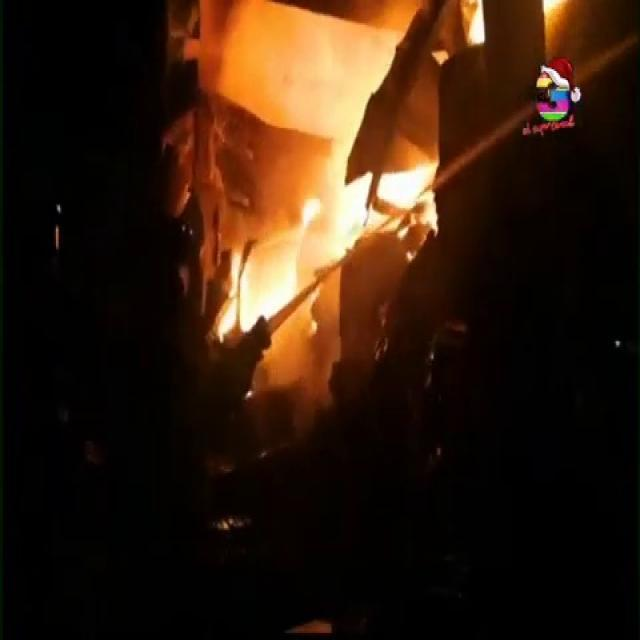Fire: (218, 16, 436, 340)
